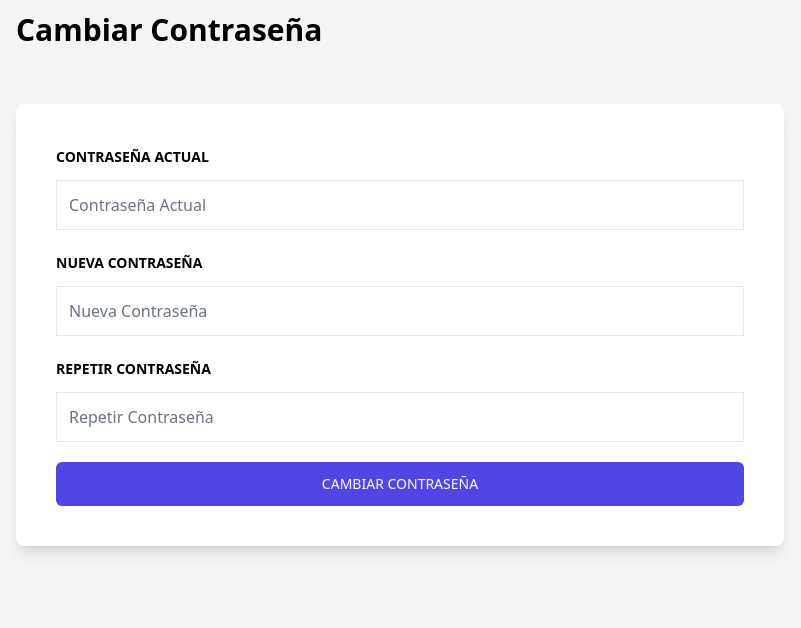
ChangePasswordView › debe validar que las contraseñas coincidan
Type "current123" into the password field with placeholder "Contraseña Actual" at (400, 205), box [56, 180, 744, 230]
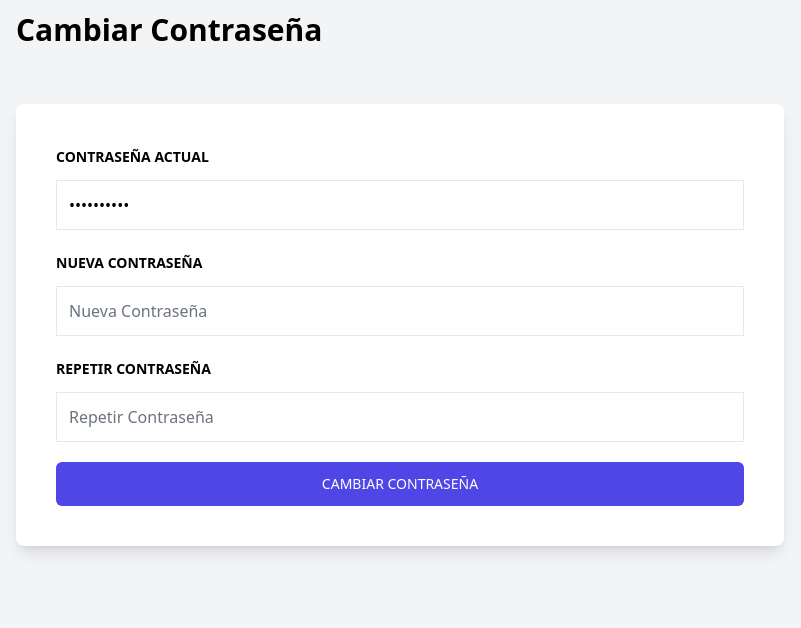
Type "newpass123" into the password field with placeholder "Nueva Contraseña" at (400, 311), box [56, 286, 744, 336]
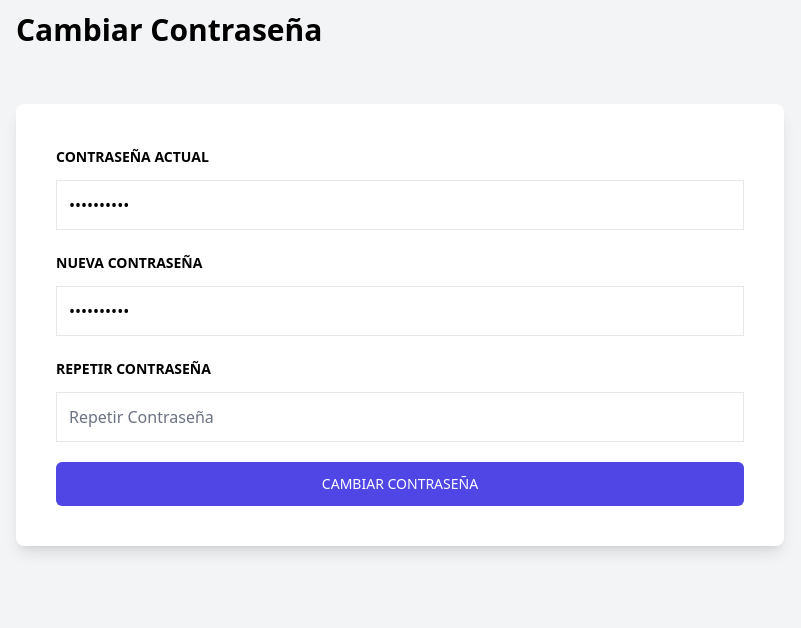
Type "different" into the password field with placeholder "Repetir Contraseña" at (400, 417), box [56, 392, 744, 442]
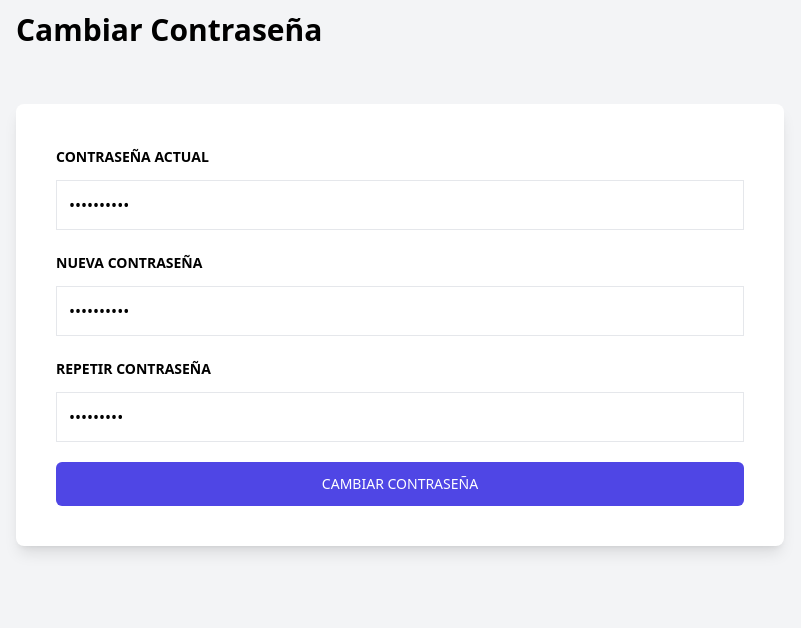
Click the button showing "Cambiar Contraseña" at (400, 484), box [56, 462, 744, 506]
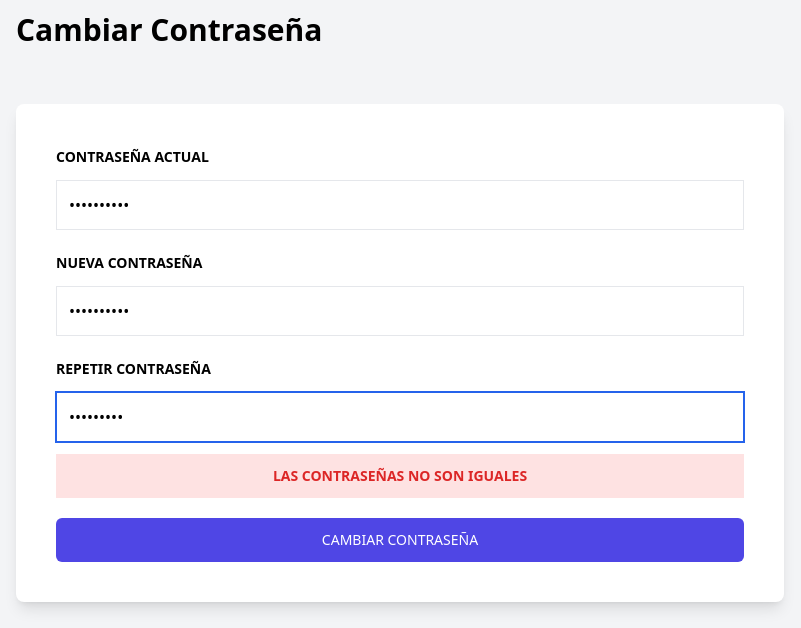
Check: the text "Las contraseñas no son iguales" is shown, box [56, 454, 744, 498]
